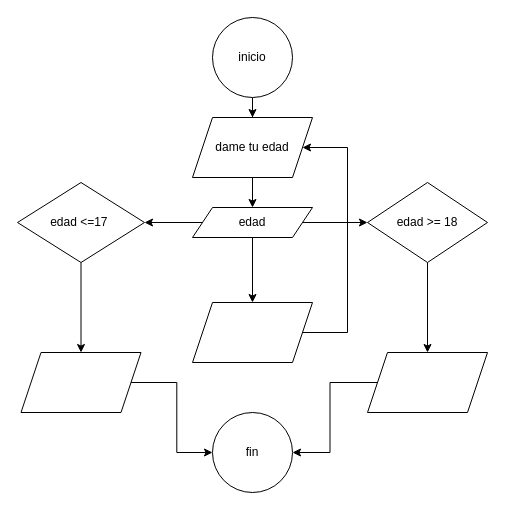
The diagram is 505 pixels wide and 510 high, and some of its shapes have lost their labels. Here are the shapes that lost their labels. From the top down, the centre of each, then its label:
At point (252, 332): "no existe edad".
At point (80, 382): "no puedes votar".
At point (427, 382): "puedes votar".
